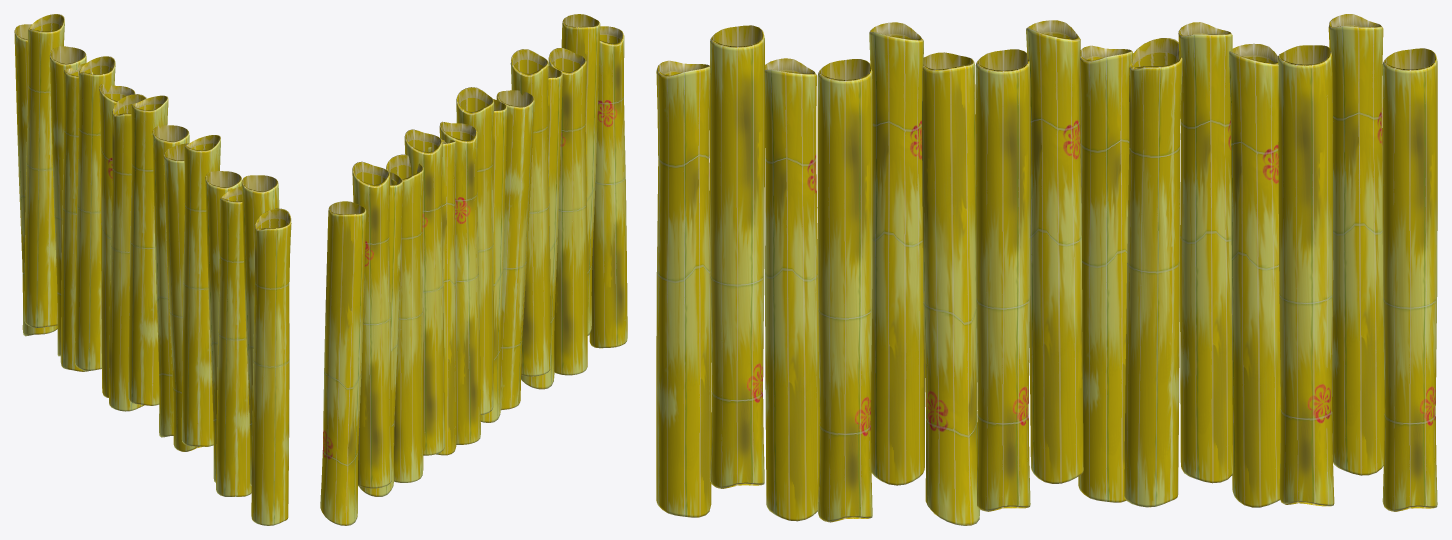
File: bamboo.fbx
3 renders of one model, left to right at view 1: azimuth 30°, elevation 25°; view 2: azimuth 150°, elevation 25°; view 3: azimuth 270°, elevation 25°, orthographic. The views are drawn at different scales.
Parts seen in each view (by area): view 1: polySurface2; view 2: polySurface2; view 3: polySurface2.
Part boxes in pixels (x1,y1,x2,y2): polySurface2: [14, 14, 291, 525]; polySurface2: [320, 14, 627, 525]; polySurface2: [656, 14, 1437, 525].
Size of the model in its own units: 2.03 by 13.55 by 19.18.
